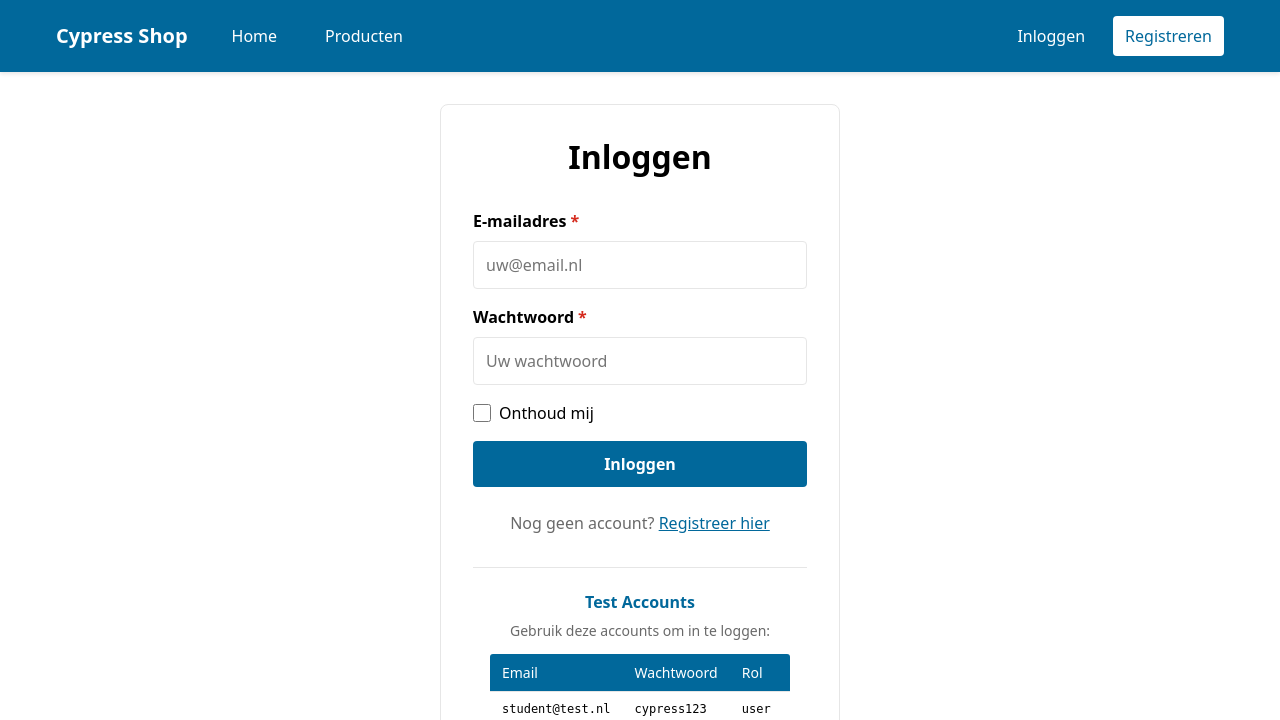
Test case: Eindopdracht: Complete E-Commerce Test Suite › 1. User Authentication › should show error for invalid login
In the field with test id "username": (640, 265) [473,241,807,289], type "invalid@test.nl"
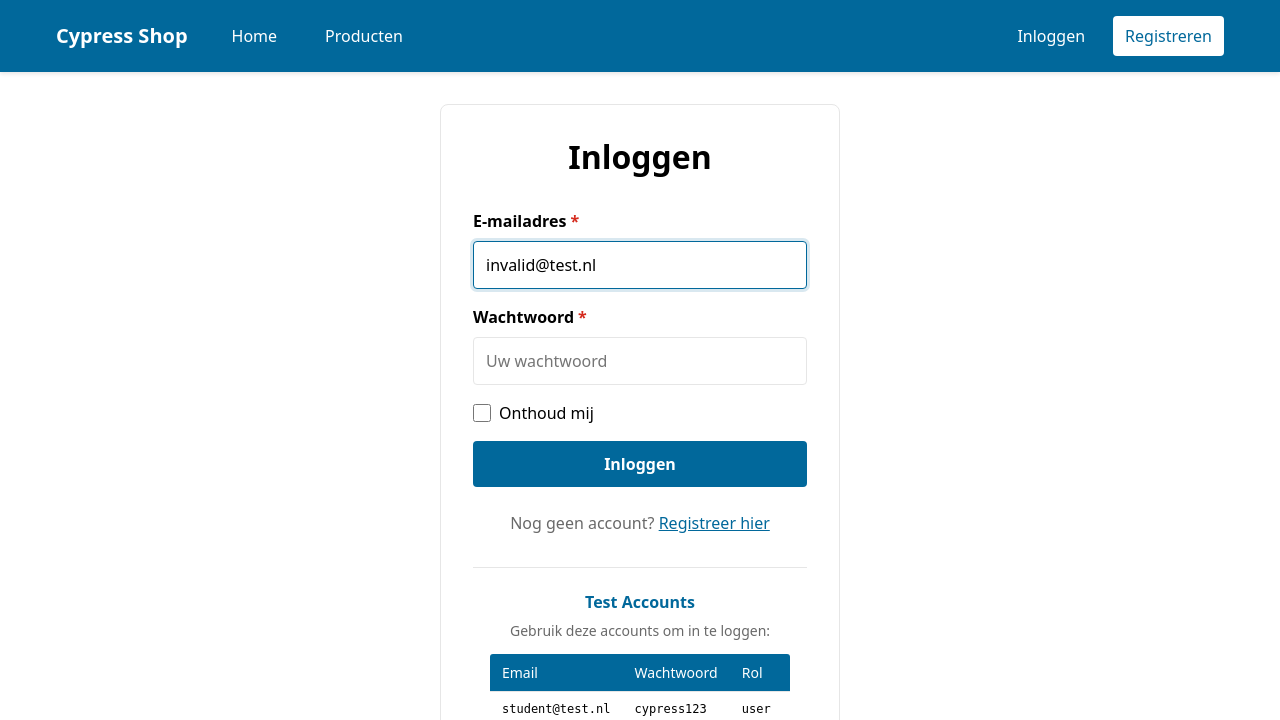
In the password field with test id "password": (640, 361) [473,337,807,385], type "wrongpassword"
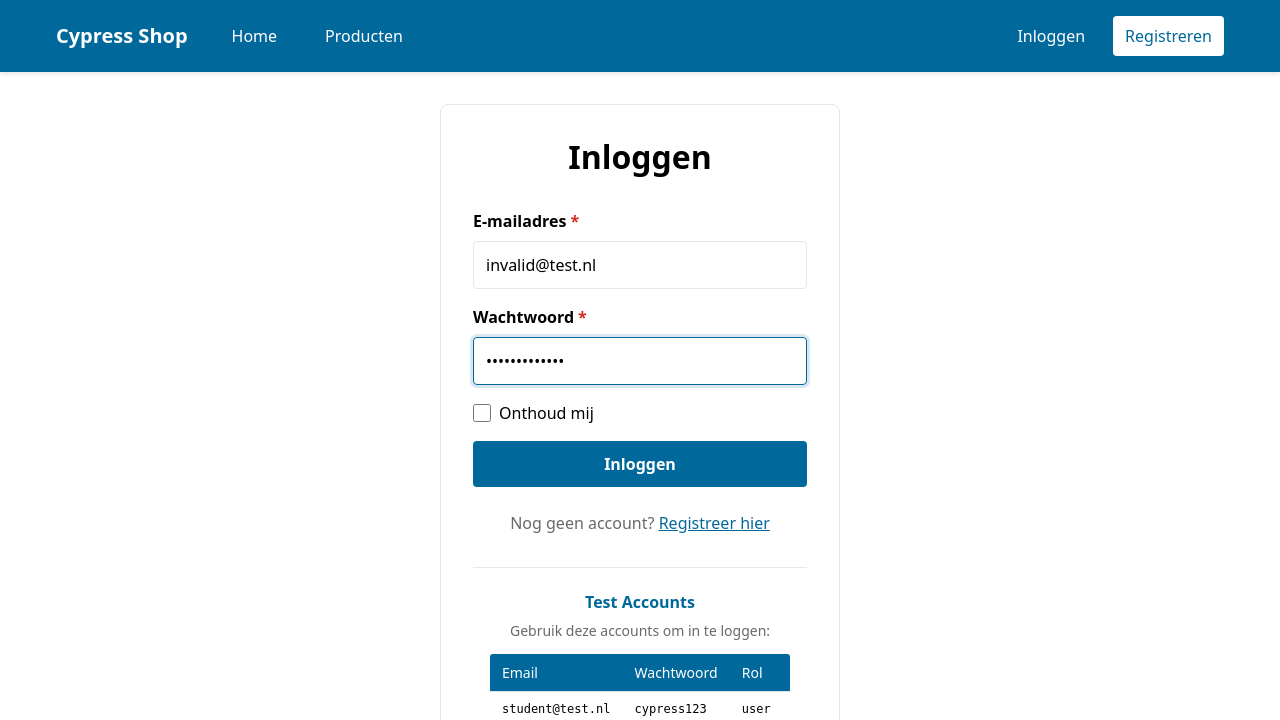
Click the button with test id "login-button": (640, 464) [473,441,807,487]
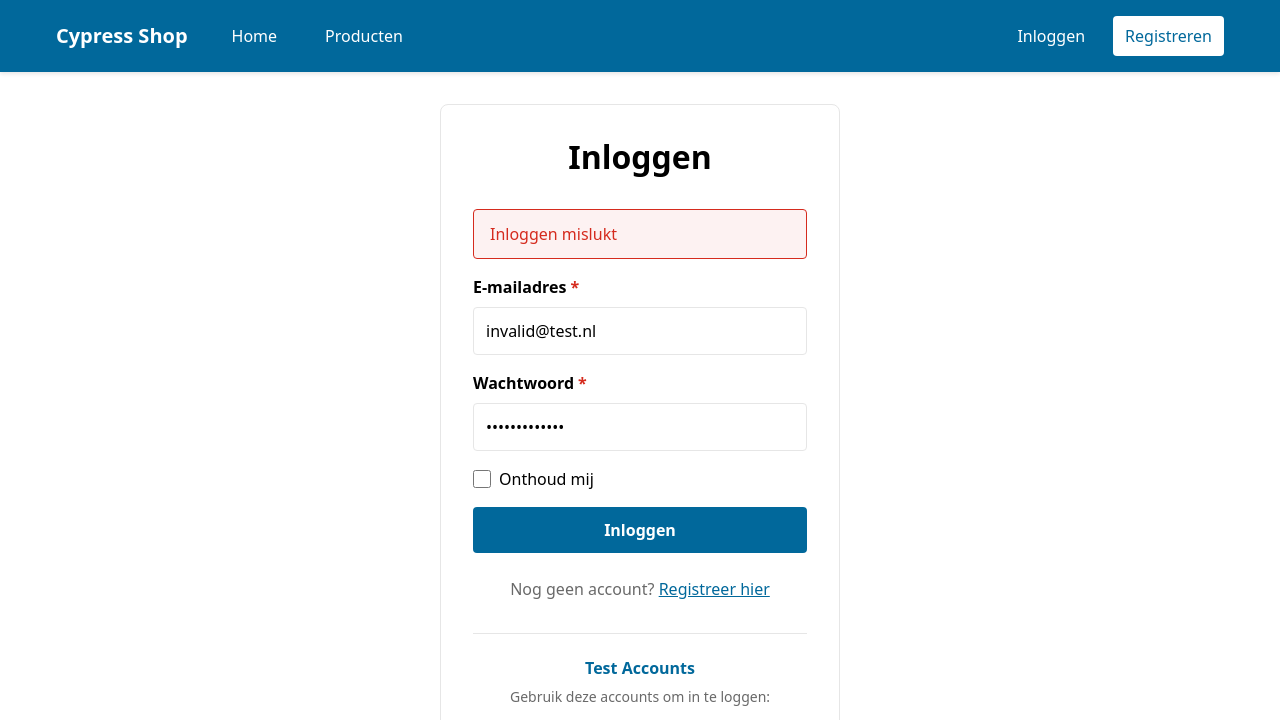
Now the text "Inloggen mislukt" is shown, box [473,209,807,259]
